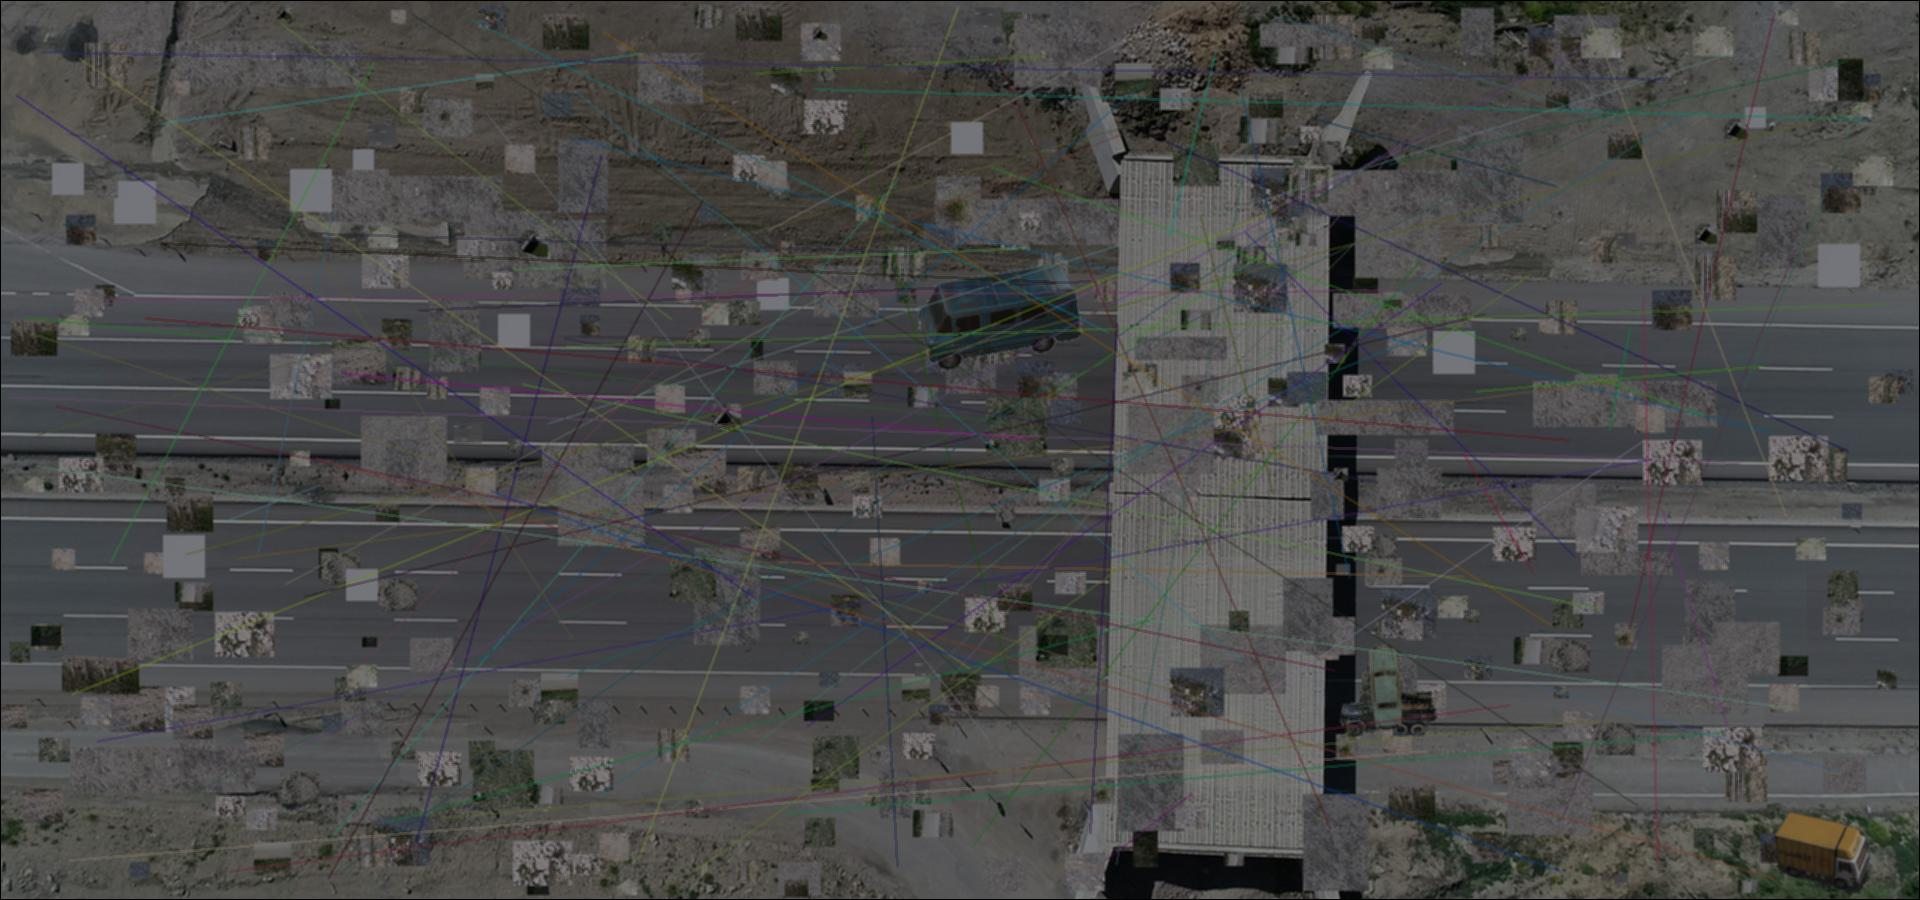arac: (912, 263, 1093, 373), (1772, 811, 1872, 895), (1340, 688, 1438, 741), (1367, 643, 1408, 733)
